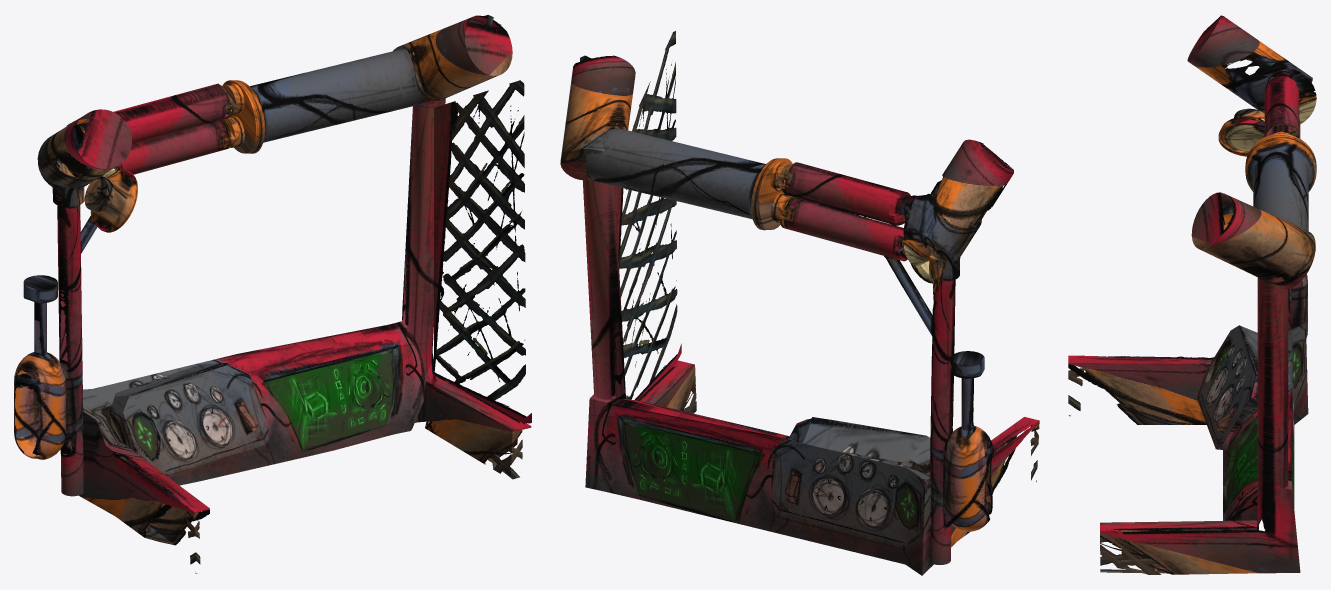
The model's file is HudFrame.fbx.
3 views of the same model, side by side, from view 1: azimuth 30°, elevation 25°; view 2: azimuth 150°, elevation 25°; view 3: azimuth 270°, elevation 25° (orthographic). The views are drawn at different scales.
Visible parts, largest first — view 1: Dash, Mesh, PipeLargeRight, SidePipeL, SidePipeR, OuterPipeR, DashRight, Canister, OuterPipeL, PipeSmallTop, PipeSmallBottom, Light (+1 smaller); view 2: Dash, PipeLargeRight, Mesh, SidePipeR, OuterPipeL, SidePipeL, OuterPipeR, Canister, PipeSmallTop, PipeSmallBottom, DashRight, PipeJointL (+2 smaller); view 3: Dash, DashRight, SidePipeR, OuterPipeR, PipeLargeRight, OuterPipeL, PipeSmallTop, Light, PipeJointL, Canister.
Part boxes in pixels (left/top/right/bottom): Dash: left=71, top=322, right=425, bottom=573; Mesh: left=434, top=80, right=531, bottom=423; PipeLargeRight: left=222, top=48, right=430, bottom=153; SidePipeL: left=52, top=174, right=84, bottom=496; SidePipeR: left=401, top=98, right=445, bottom=373; OuterPipeR: left=393, top=15, right=512, bottom=100; DashRight: left=398, top=321, right=531, bottom=479; Canister: left=14, top=351, right=66, bottom=459; OuterPipeL: left=37, top=109, right=131, bottom=187; PipeSmallTop: left=113, top=83, right=232, bottom=144; PipeSmallBottom: left=116, top=119, right=231, bottom=174; Light: left=84, top=170, right=137, bottom=232; Dash: left=605, top=398, right=1039, bottom=575; PipeLargeRight: left=585, top=127, right=792, bottom=230; Mesh: left=615, top=31, right=681, bottom=400; SidePipeR: left=582, top=174, right=625, bottom=399; OuterPipeL: left=904, top=139, right=1013, bottom=266; SidePipeL: left=929, top=255, right=960, bottom=564; OuterPipeR: left=560, top=55, right=635, bottom=179; Canister: left=943, top=425, right=994, bottom=531; PipeSmallTop: left=782, top=162, right=910, bottom=225; PipeSmallBottom: left=779, top=197, right=907, bottom=261; DashRight: left=585, top=360, right=696, bottom=491; PipeJointL: left=894, top=193, right=936, bottom=265; Dash: left=1068, top=322, right=1308, bottom=520; DashRight: left=1100, top=480, right=1300, bottom=574; SidePipeR: left=1257, top=276, right=1288, bottom=551; OuterPipeR: left=1191, top=192, right=1315, bottom=289; PipeLargeRight: left=1245, top=131, right=1316, bottom=231; OuterPipeL: left=1187, top=15, right=1312, bottom=113; PipeSmallTop: left=1264, top=75, right=1299, bottom=137; Light: left=1218, top=108, right=1264, bottom=156; PipeJointL: left=1253, top=60, right=1316, bottom=124; Canister: left=1291, top=274, right=1307, bottom=338.
Bounding box in the file's own units: 279 × 239 × 138.
Materials: 1 (1 with a texture image).
